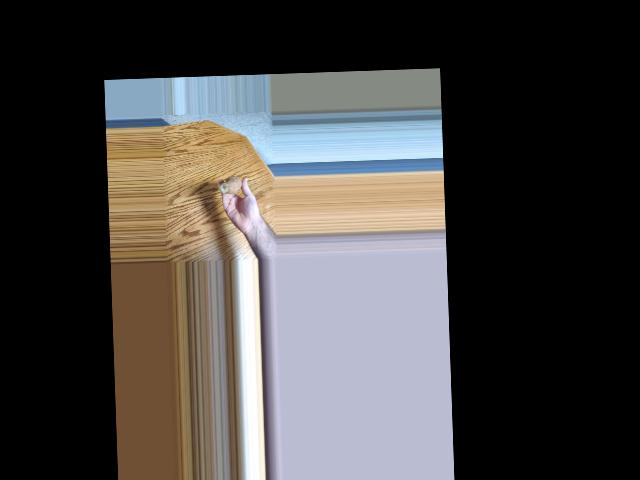sweet_potato: (219, 168, 245, 194)
